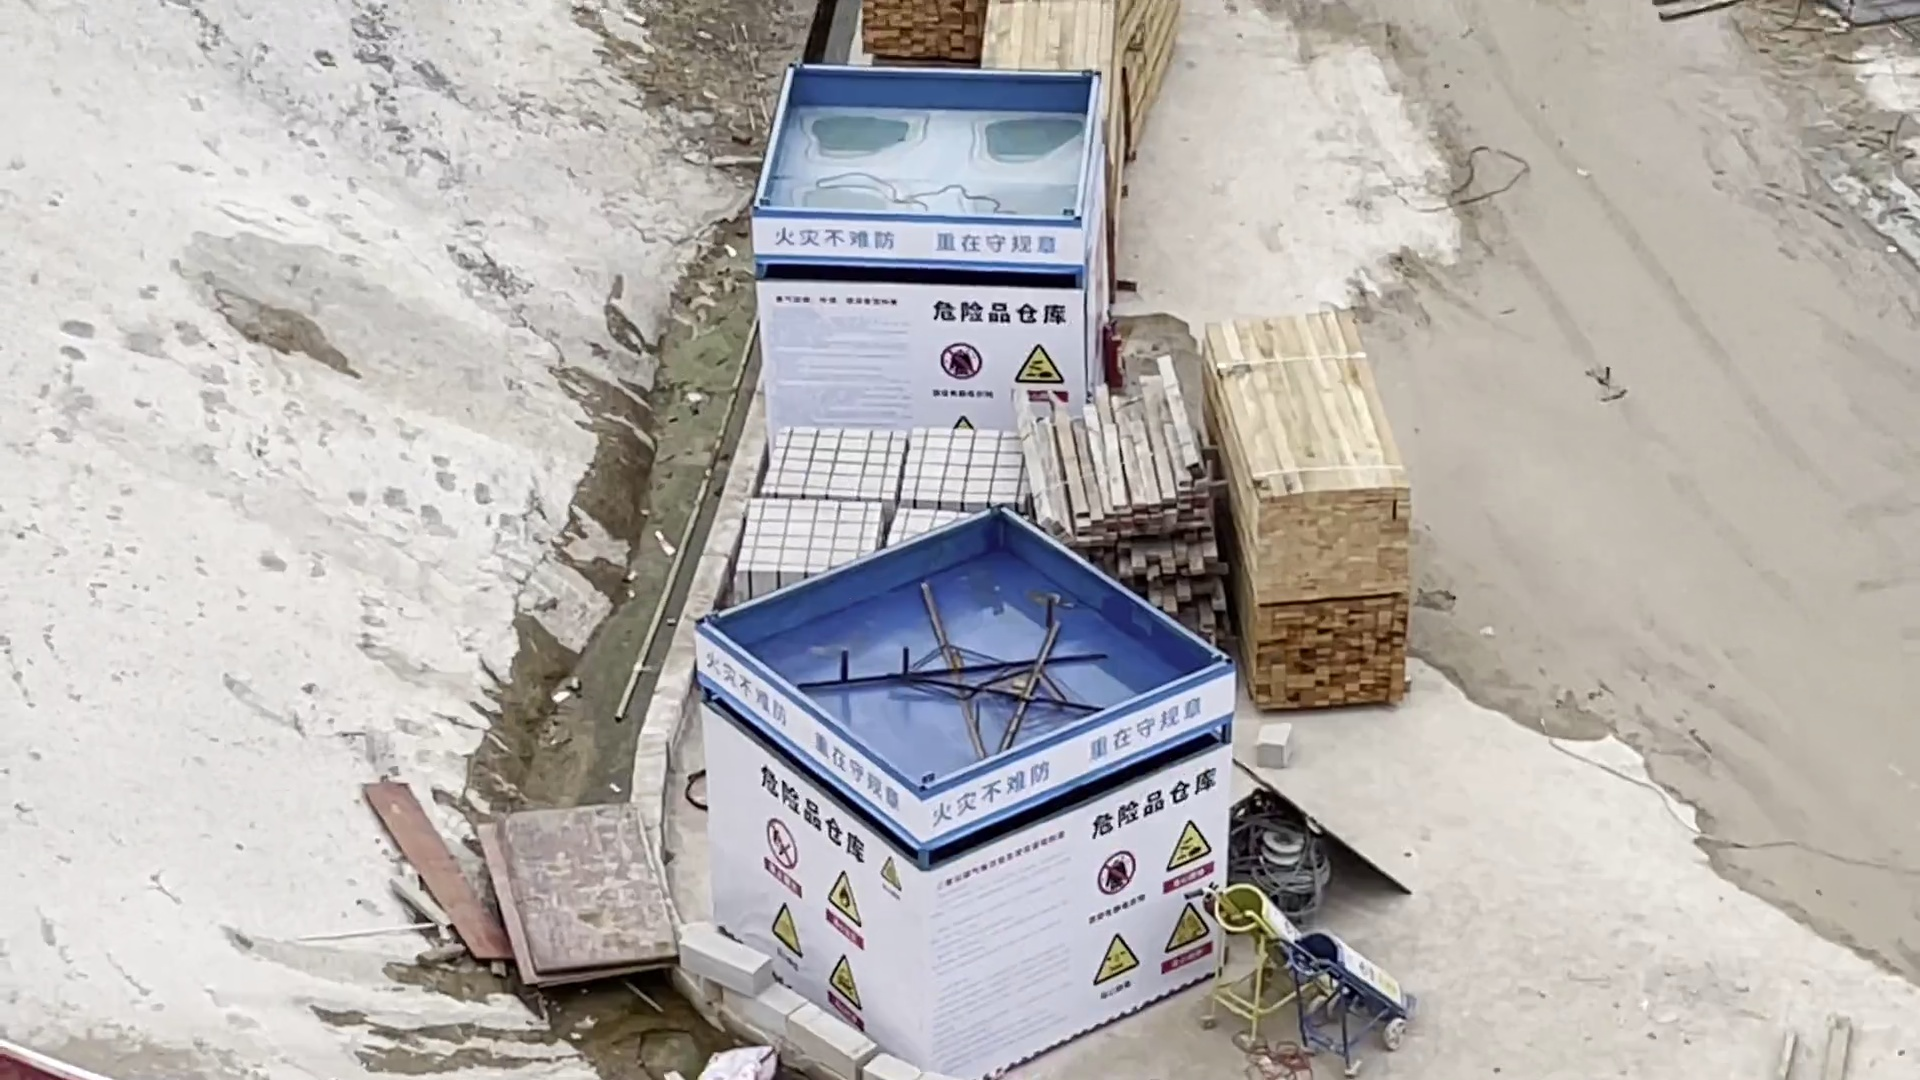slogan: (657, 537, 1304, 1075), (752, 49, 1159, 393)
wood: (1216, 342, 1404, 604), (1009, 389, 1211, 556), (1242, 596, 1418, 729), (845, 1, 996, 69), (978, 8, 1113, 82)
